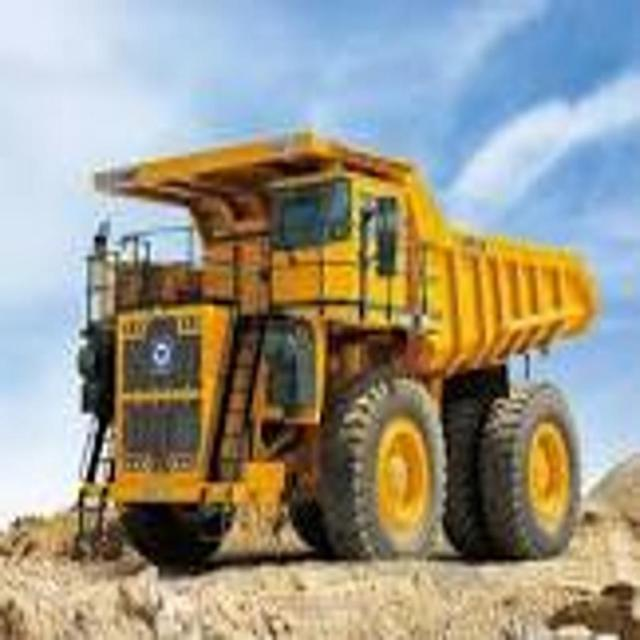dump_truck: (79, 143, 597, 559)
